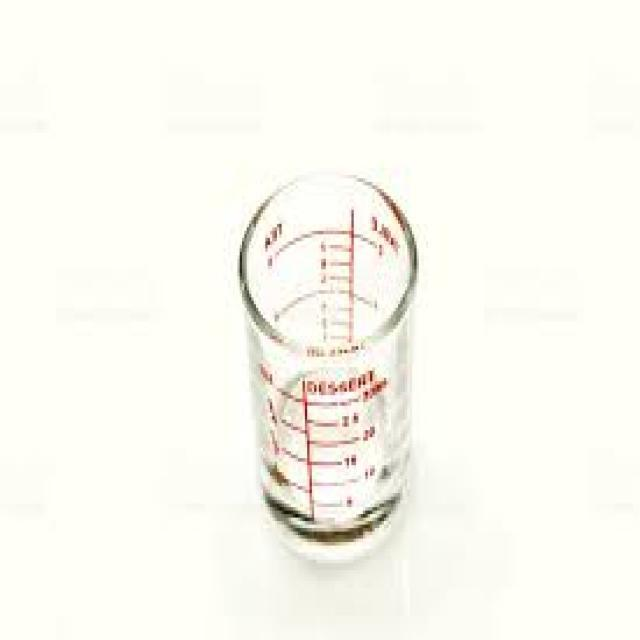Glass: (238, 162, 419, 570)
